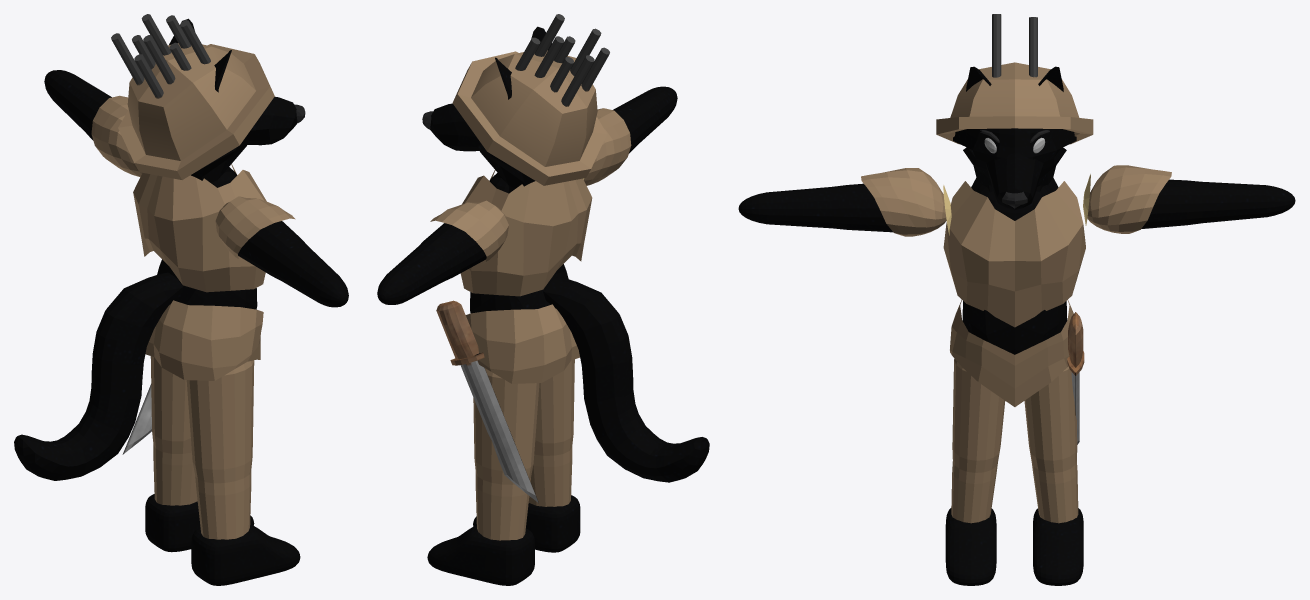
The model's file is Unity HD Render Pipeline (Metallic Standard).glb.
3 views of the same model, side by side, from view 1: azimuth 30°, elevation 25°; view 2: azimuth 150°, elevation 25°; view 3: azimuth 270°, elevation 25° (orthographic). The views are drawn at different scales.
Visible parts, largest first — view 1: Sphere.013-0, Sphere.013-1; view 2: Sphere.013-0, Sphere.013-1; view 3: Sphere.013-0, Sphere.013-1.
Part boxes in pixels (left/top/right/bottom): Sphere.013-0: left=14, top=18, right=348, bottom=585; Sphere.013-1: left=111, top=14, right=274, bottom=179; Sphere.013-0: left=377, top=26, right=709, bottom=585; Sphere.013-1: left=452, top=14, right=609, bottom=185; Sphere.013-0: left=738, top=66, right=1295, bottom=585; Sphere.013-1: left=936, top=14, right=1093, bottom=144.
Size of the model in its own units: 6.14 by 11.33 by 10.96.
2 materials, 2 textured.
